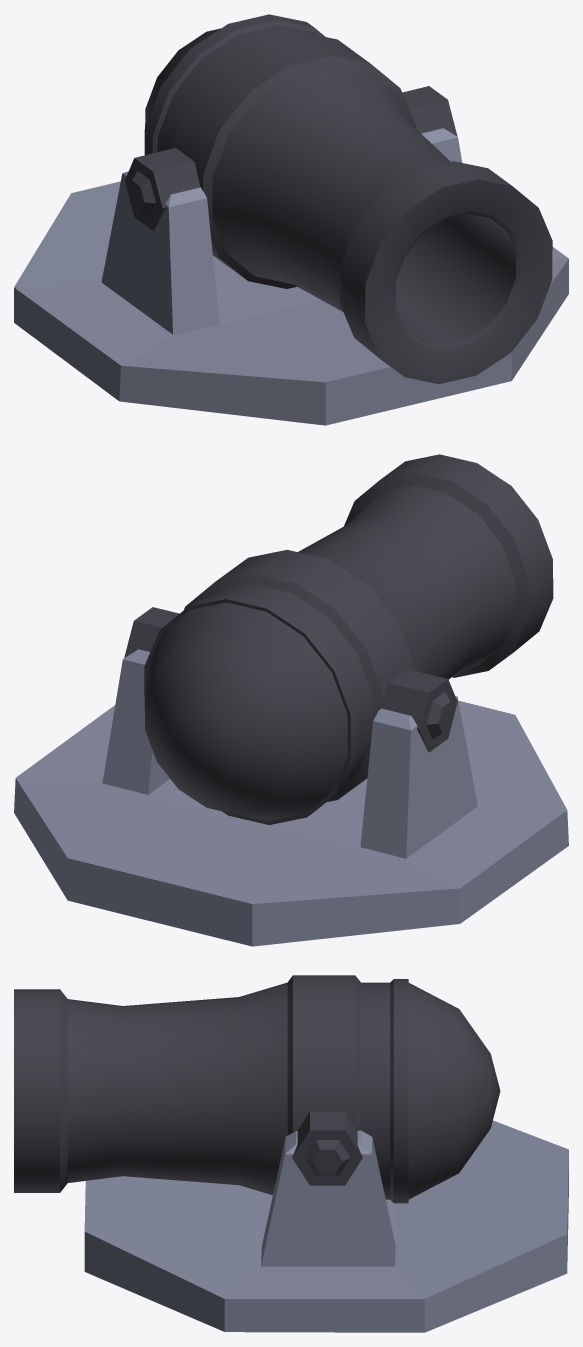
The model's file is Cannon.fbx.
The picture shows the model from 3 angles, top to bottom: view 1: azimuth 30°, elevation 25°; view 2: azimuth 150°, elevation 25°; view 3: azimuth 270°, elevation 25°; orthographic projection. The views are drawn at different scales.
Parts seen in each view (by area): view 1: Cannon; view 2: Cannon; view 3: Cannon.
Part boxes in pixels (x1,y1,x2,y2): Cannon: [14, 14, 568, 425]; Cannon: [14, 454, 568, 946]; Cannon: [14, 975, 568, 1332].
Size of the model in its own units: 20.09 by 11.15 by 23.02.
